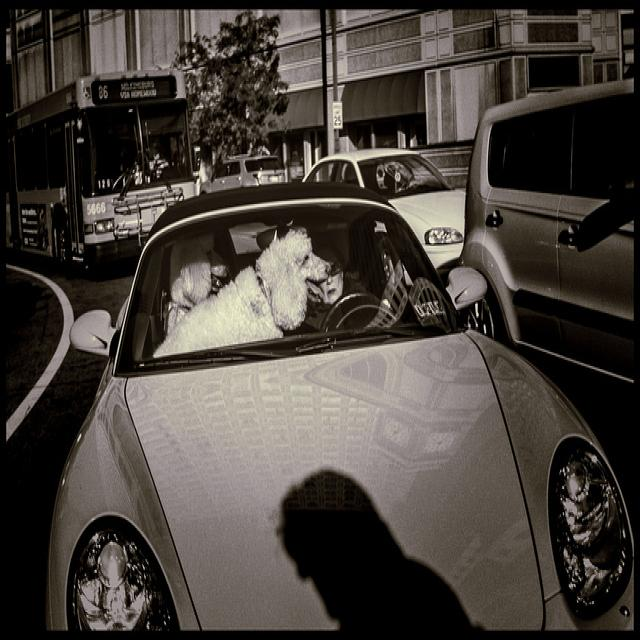Vehicle: (44, 200, 636, 630), (455, 78, 640, 390), (9, 74, 198, 269), (302, 148, 466, 270), (199, 154, 289, 198)
